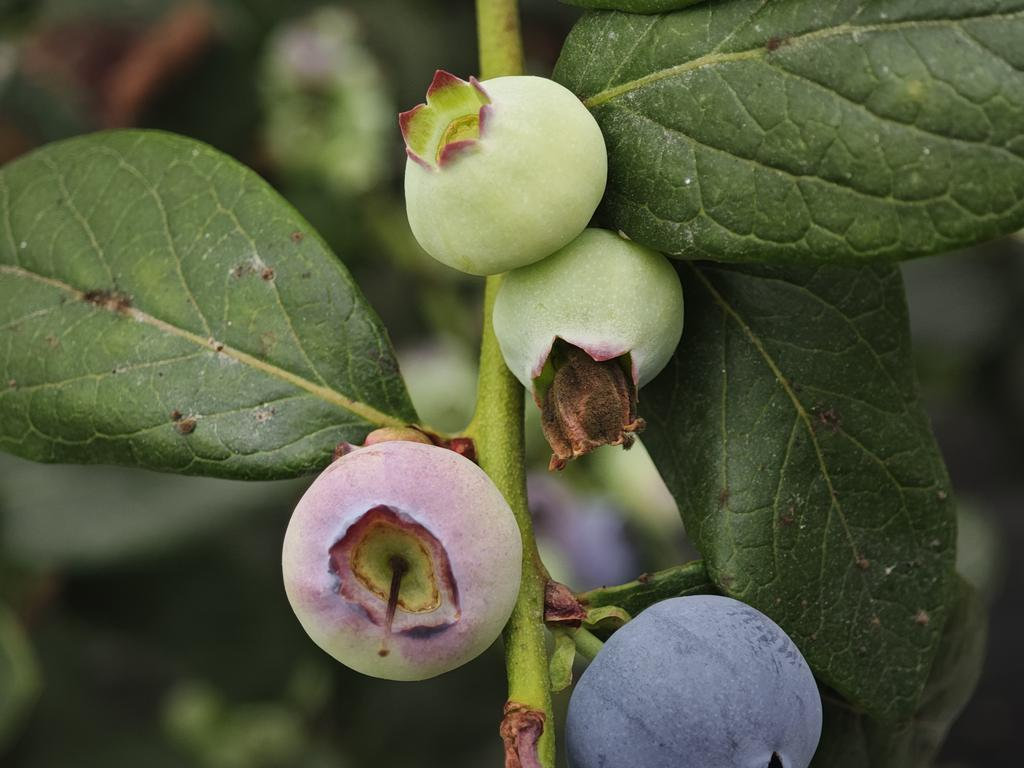RipeBlueBerry: (560, 589, 829, 768)
Semi-RipeBlueBerry: (280, 438, 528, 688)
UnripeBlueBerry: (393, 68, 611, 279)
